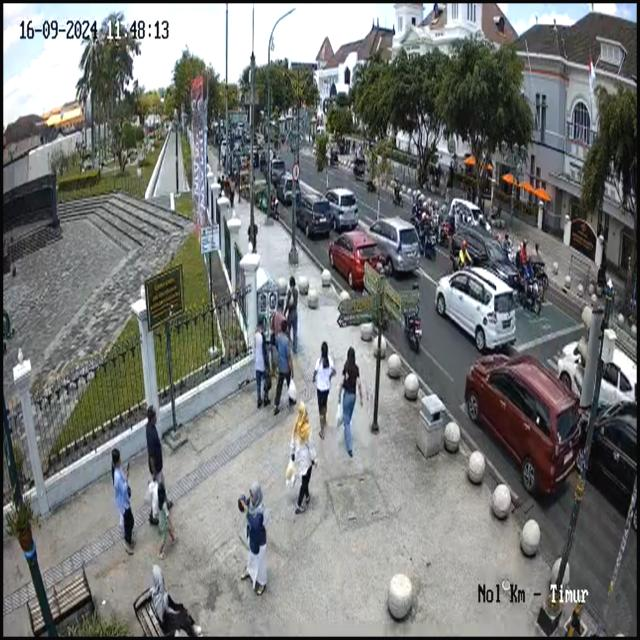Car: (467, 334, 578, 506), (429, 246, 516, 349), (576, 396, 640, 530), (565, 325, 638, 404), (324, 222, 380, 291), (454, 220, 512, 286), (368, 209, 421, 281), (292, 190, 329, 242), (326, 186, 358, 224), (276, 173, 300, 210)
Motorcycle: (513, 244, 542, 316), (401, 282, 424, 346)
